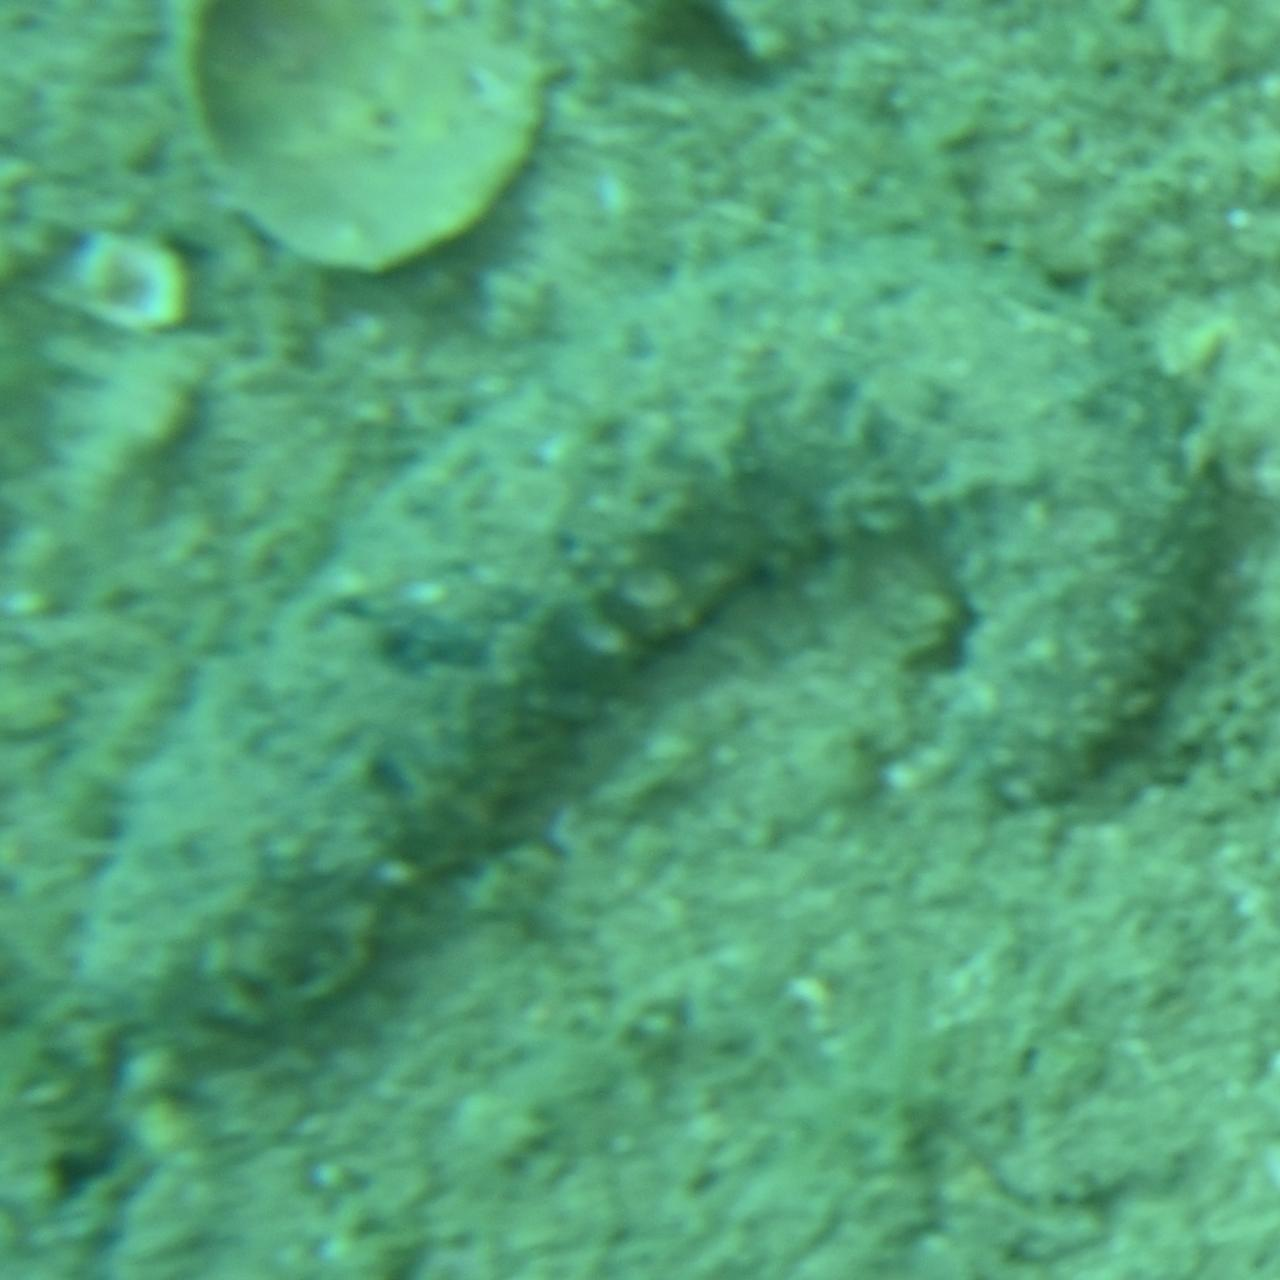Holothuria tubulosa: (52, 228, 1228, 1052)
